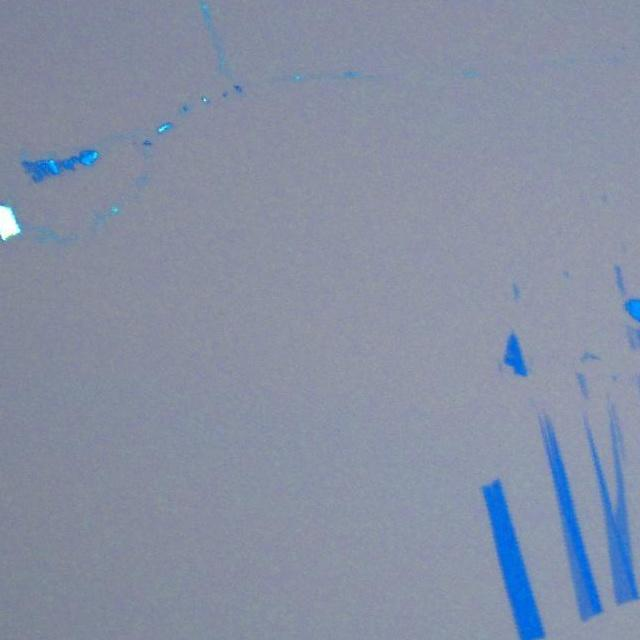monolayer-eWW4: (598, 484, 640, 640), (550, 475, 592, 620), (609, 412, 640, 560)
